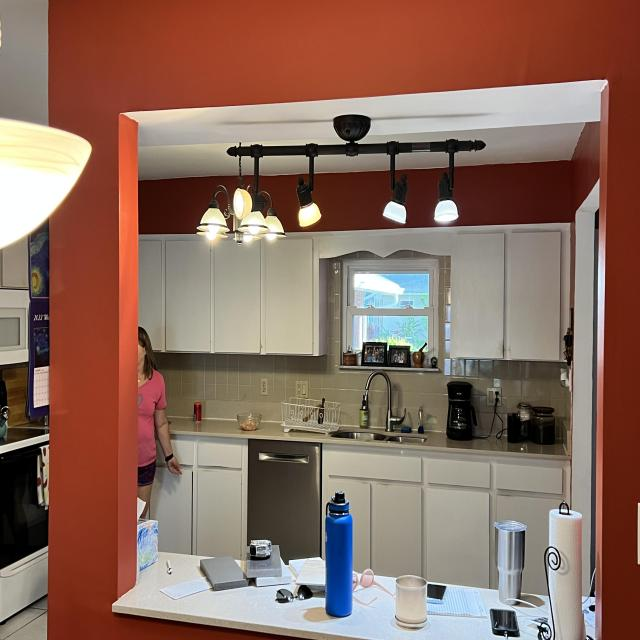Appliance_Dishwasher: (246, 440, 322, 566)
Appliance_Microwave: (0, 289, 29, 366)
Appliance_Oven: (0, 426, 49, 625)
Appliance_Sink: (328, 372, 427, 444)
Cabinet_Flat: (138, 224, 573, 364), (323, 448, 572, 597), (149, 438, 250, 561), (0, 239, 28, 288)
Countertop_Granite: (112, 553, 511, 640), (168, 420, 566, 456)
